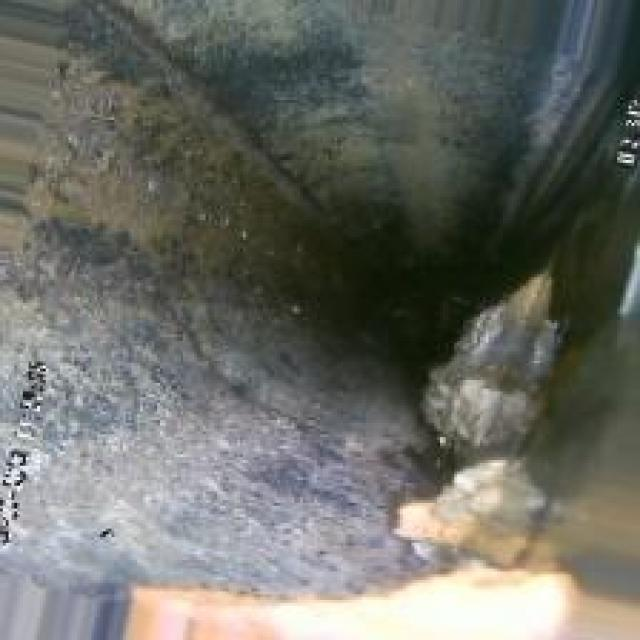stone: (406, 263, 563, 563)
